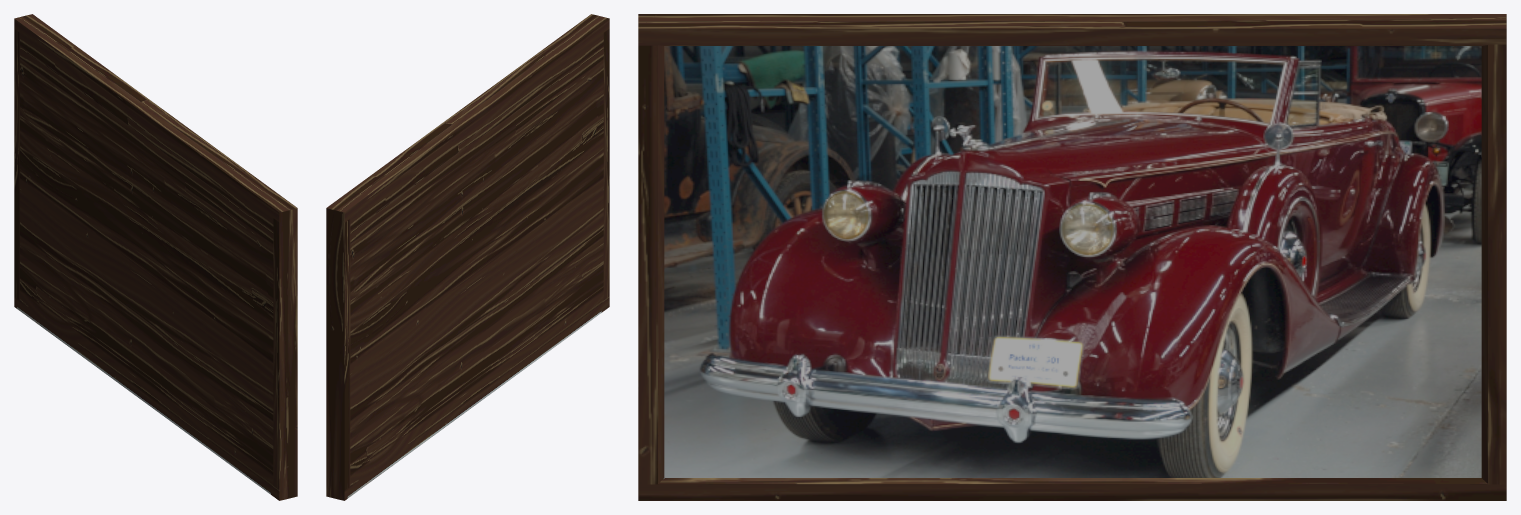
The model's file is carPainting.glb.
The picture shows the model from 3 angles, left to right: view 1: azimuth 30°, elevation 25°; view 2: azimuth 150°, elevation 25°; view 3: azimuth 270°, elevation 25°; orthographic projection. The views are drawn at different scales.
Parts seen in each view (by area): view 1: pCube1; view 2: pCube1; view 3: pCube1.
Boxes of the visible parts, <box> form: pCube1: <box>14,14,297,500</box>; pCube1: <box>326,14,609,500</box>; pCube1: <box>638,14,1506,500</box>.
Bounding box in the file's own units: 0.002 × 0.03 × 0.05.
1 material, 1 textured.
